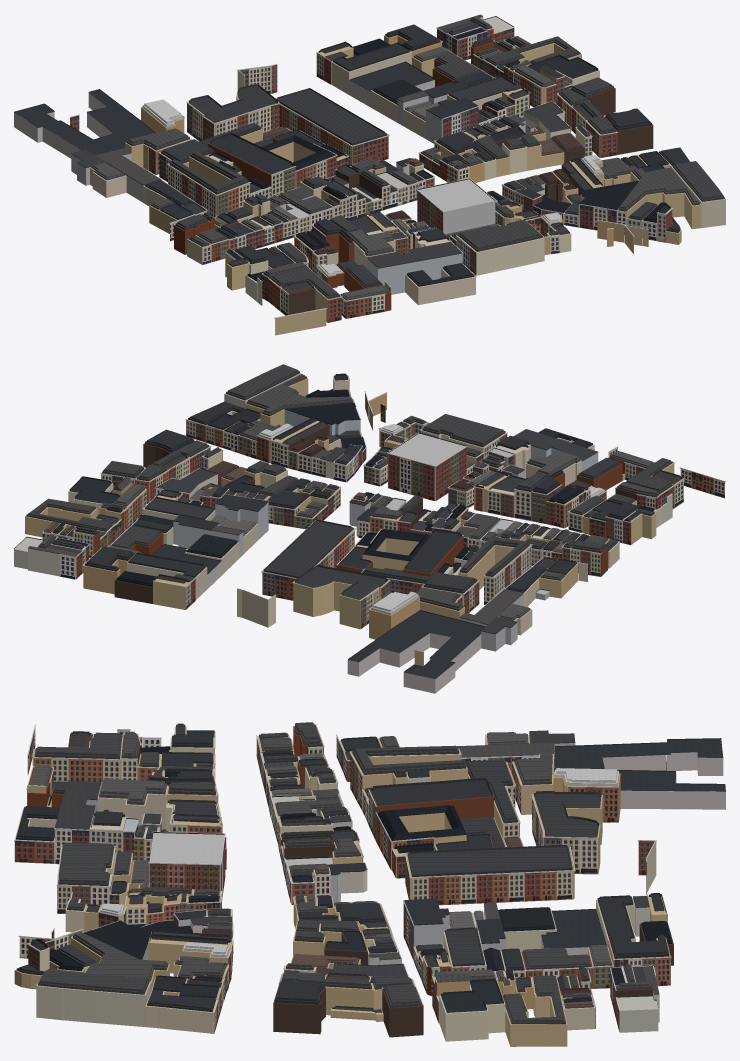
3 renders of one model, top to bottom at view 1: azimuth 30°, elevation 25°; view 2: azimuth 150°, elevation 25°; view 3: azimuth 270°, elevation 25°, orthographic. The views are drawn at different scales.
Visible parts, largest first — view 1: bldg_495031127_roof, bldg_494997326, bldg_232773472_roof_a, bldg_495719076, bldg_495717868, bldg_495031127, bldg_495717867, bldg_260476473_roof_b, bldg_495719076_roof_b, bldg_495714692_roof_b, bldg_495040234_roof, bldg_495031134_roof_b (+48 smaller); view 2: bldg_495031127_roof, bldg_495031127, bldg_232773472_roof_a, bldg_260476473, bldg_494997326_facade1, bldg_494997326, bldg_495714692_roof_b, bldg_260476473_roof_b, bldg_495719076_roof_b, bldg_495031134_roof_b, bldg_494997326_facade0, bldg_1000495031129_roof_b (+42 smaller); view 3: bldg_232773472_facade0, bldg_495031127_roof, bldg_495031127, bldg_232773472_roof_a, bldg_260450019, bldg_494997326, bldg_495040254, bldg_495040247, bldg_495040234_roof, bldg_260476473_roof_b, bldg_495031134_roof_b, bldg_495719076_roof_b (+67 smaller).
Part boxes in pixels (box(x1,y1,x2,y2)): bldg_495031127_roof: box(14, 89, 155, 154); bldg_494997326: box(418, 179, 495, 234); bldg_232773472_roof_a: box(276, 89, 386, 145); bldg_495719076: box(458, 236, 544, 275); bldg_495717868: box(367, 251, 462, 294); bldg_495031127: box(14, 93, 112, 158); bldg_495717867: box(405, 268, 475, 305); bldg_260476473_roof_b: box(190, 84, 275, 119); bldg_495719076_roof_b: box(460, 219, 540, 249); bldg_495714692_roof_b: box(620, 167, 697, 208); bldg_495040234_roof: box(349, 61, 434, 92); bldg_495031134_roof_b: box(211, 133, 291, 171); bldg_495031127_roof: box(348, 610, 485, 679); bldg_495031127: box(347, 633, 481, 693); bldg_232773472_roof_a: box(263, 521, 353, 578); bldg_260476473: box(293, 580, 388, 629); bldg_494997326_facade1: box(387, 453, 435, 500); bldg_494997326: box(388, 433, 465, 500); bldg_495714692_roof_b: box(248, 374, 351, 413); bldg_260476473_roof_b: box(296, 564, 385, 596); bldg_495719076_roof_b: box(424, 414, 503, 444); bldg_495031134_roof_b: box(406, 529, 460, 570); bldg_494997326_facade0: box(435, 446, 467, 500); bldg_1000495031129_roof_b: box(364, 567, 475, 590); bldg_232773472_facade0: box(409, 870, 575, 905); bldg_495031127_roof: box(554, 738, 725, 791); bldg_495031127: box(554, 748, 725, 809); bldg_232773472_roof_a: box(407, 846, 572, 876); bldg_260450019: box(36, 978, 151, 1026); bldg_494997326: box(149, 833, 224, 890); bldg_495040254: box(505, 977, 567, 1046); bldg_495040247: box(439, 982, 505, 1041); bldg_495040234_roof: box(541, 909, 606, 948); bldg_260476473_roof_b: box(536, 791, 599, 833); bldg_495031134_roof_b: box(373, 777, 490, 802); bldg_495719076_roof_b: box(60, 842, 112, 882).
Size of the model in its own units: 286 by 19.72 by 286.
Materials: 123 (55 with a texture image).
